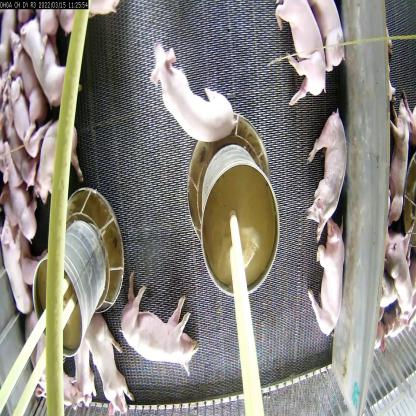Pig: (151, 46, 244, 148), (121, 280, 196, 374), (274, 0, 336, 105), (77, 301, 136, 409), (309, 108, 351, 235), (25, 14, 76, 108), (307, 218, 344, 334), (0, 145, 38, 234), (36, 126, 84, 190), (8, 83, 42, 146), (26, 309, 48, 401), (68, 333, 95, 404), (0, 218, 19, 310), (11, 121, 40, 180)
